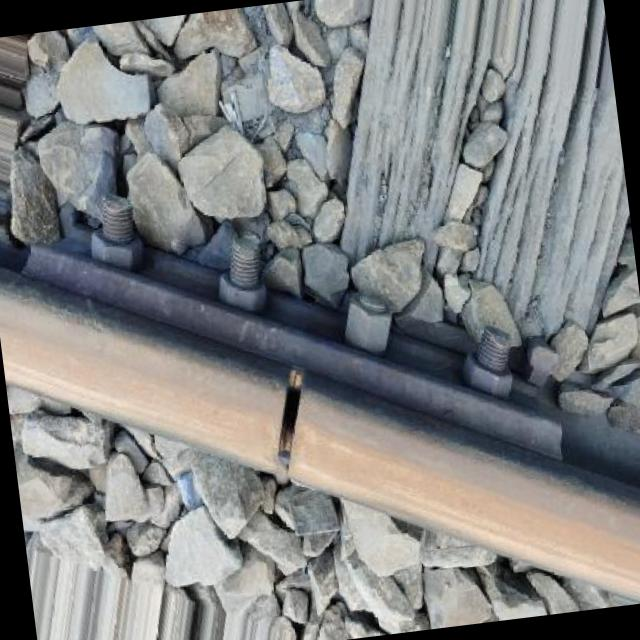defective: (139, 213, 530, 626)
